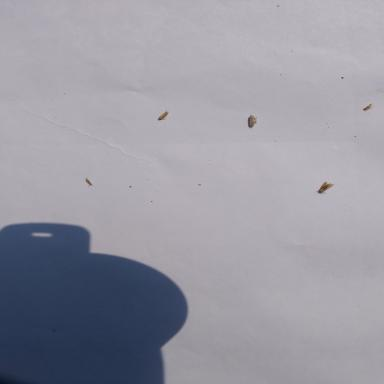pbw: (244, 113, 260, 129), (156, 108, 173, 121), (319, 181, 334, 195), (84, 177, 93, 186)
